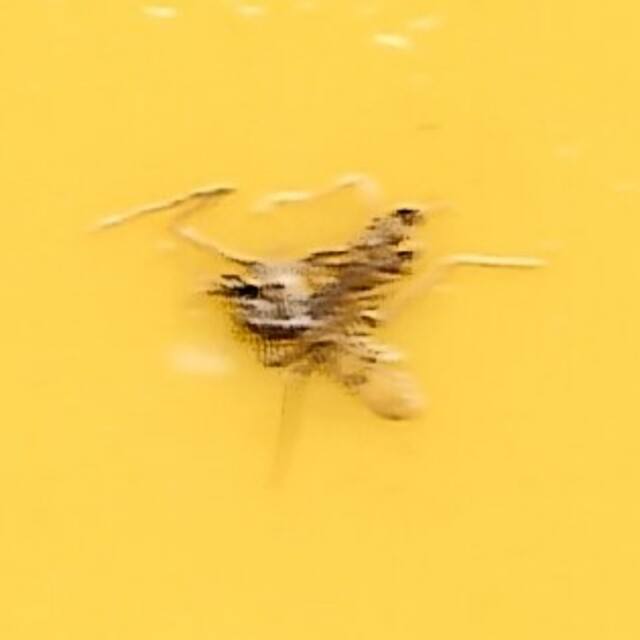Nematocera: (203, 196, 437, 444)
